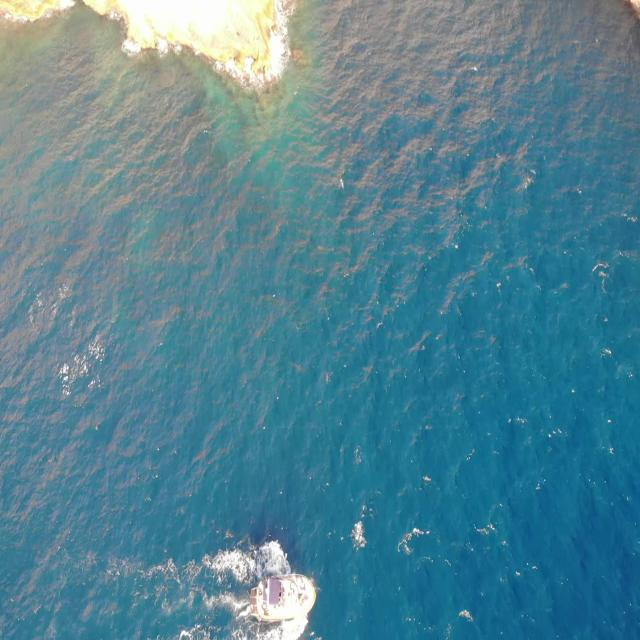boat: (247, 566, 319, 632)
